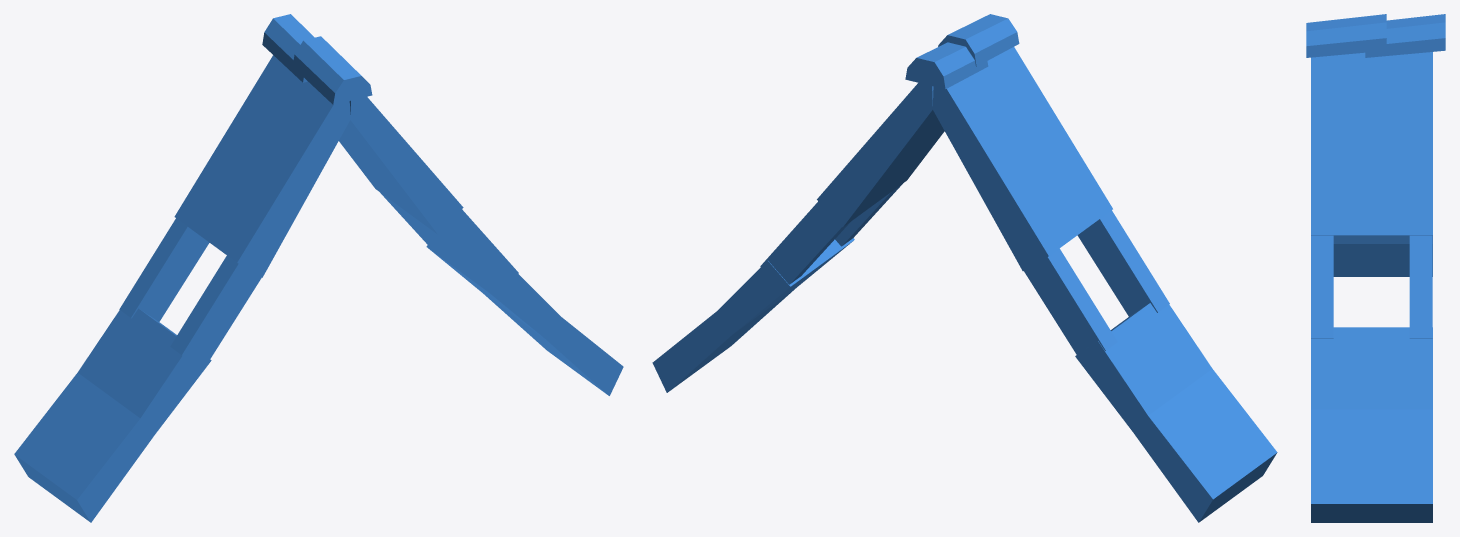
Rendered from Collision_Roof_Modular_FlatTiles_8_Dormer.fbx.
3 renders of one model, left to right at view 1: azimuth 30°, elevation 25°; view 2: azimuth 150°, elevation 25°; view 3: azimuth 270°, elevation 25°, orthographic. The views are drawn at different scales.
Visible parts, largest first — view 1: UCX_Roof_Modular_FlatTiles_8_Dormer_01; view 2: UCX_Roof_Modular_FlatTiles_8_Dormer_01; view 3: UCX_Roof_Modular_FlatTiles_8_Dormer_01.
Boxes of the visible parts, left/top/right/bottom form: UCX_Roof_Modular_FlatTiles_8_Dormer_01: left=14, top=14, right=623, bottom=522; UCX_Roof_Modular_FlatTiles_8_Dormer_01: left=652, top=14, right=1277, bottom=522; UCX_Roof_Modular_FlatTiles_8_Dormer_01: left=1306, top=14, right=1445, bottom=522.
Size of the model in its own units: 997 by 684 by 226.
